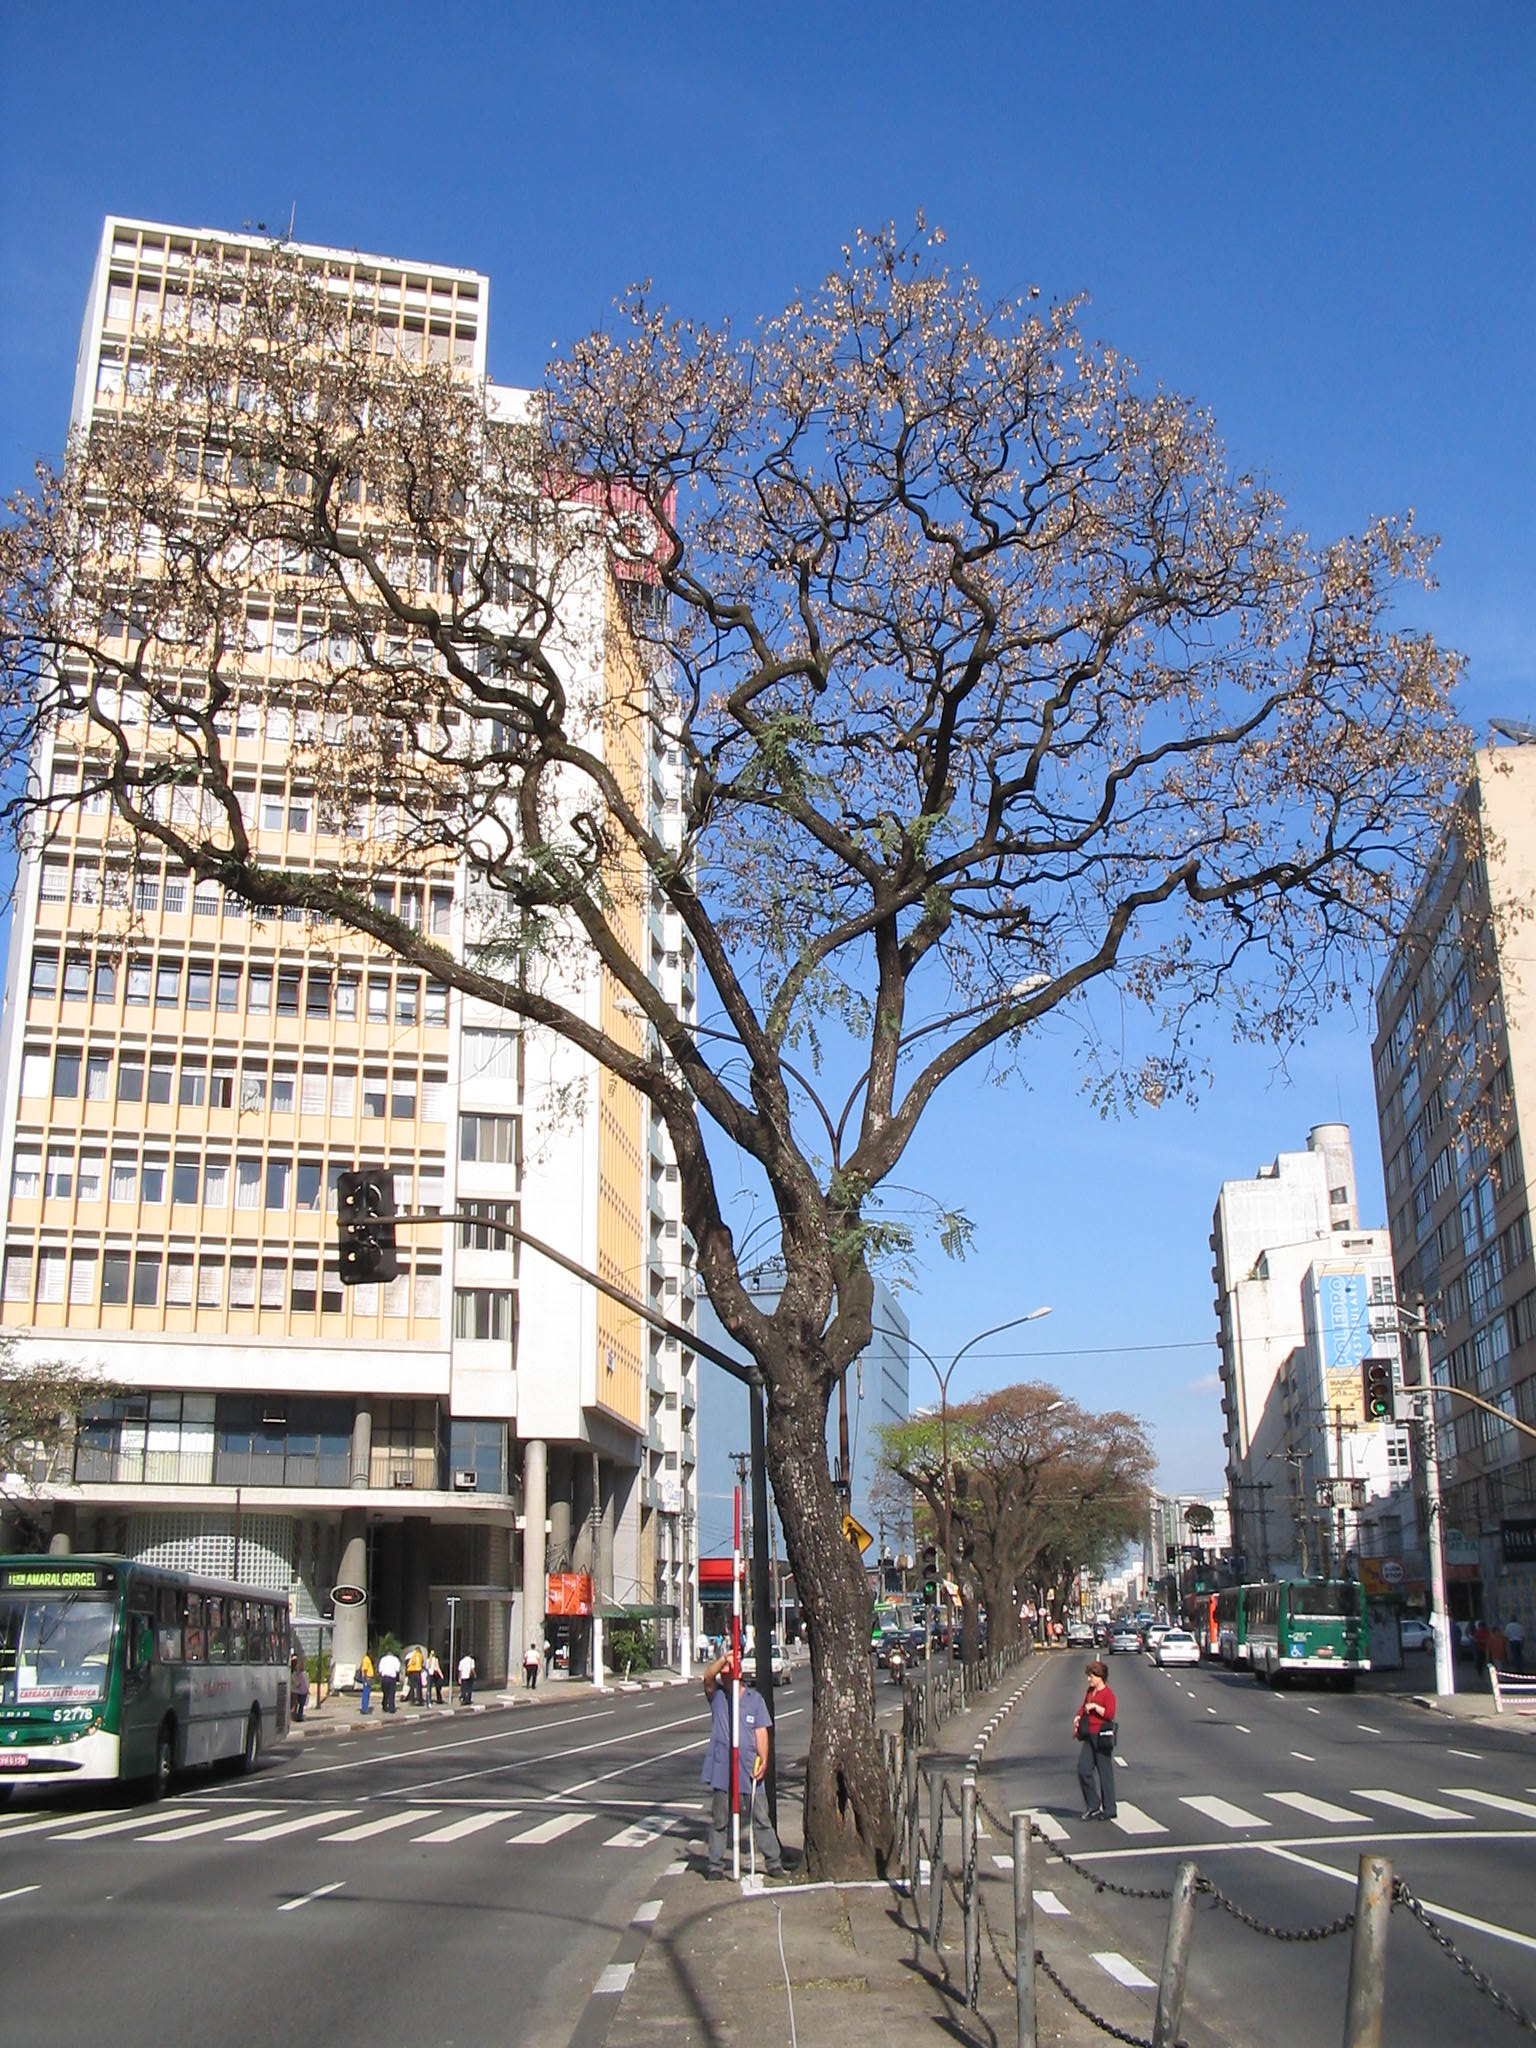crown: (8, 211, 1517, 1159)
stem: (745, 1380, 929, 1882)
stick: (715, 1488, 762, 1884)
tree: (6, 210, 1521, 1880)
